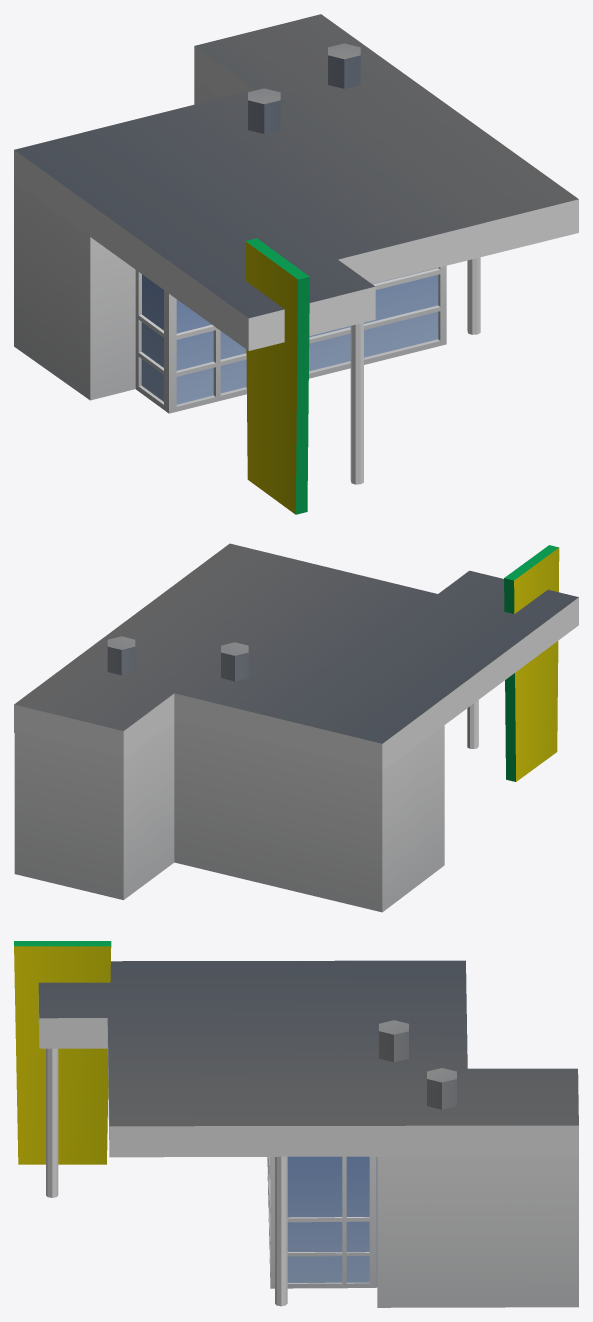
Rendered from auringon_pizzeria (1).fbx.
The picture shows the model from 3 angles, top to bottom: view 1: azimuth 30°, elevation 25°; view 2: azimuth 150°, elevation 25°; view 3: azimuth 270°, elevation 25°; orthographic projection. The views are drawn at different scales.
Parts seen in each view (by area): view 1: auringon_pizzeria1; view 2: auringon_pizzeria1; view 3: auringon_pizzeria1.
Part boxes in pixels (<box>): auringon_pizzeria1: <box>14,14,578,514</box>; auringon_pizzeria1: <box>14,543,578,912</box>; auringon_pizzeria1: <box>14,941,578,1307</box>.
Size of the model in its own units: 18.99 by 11.57 by 27.14.
